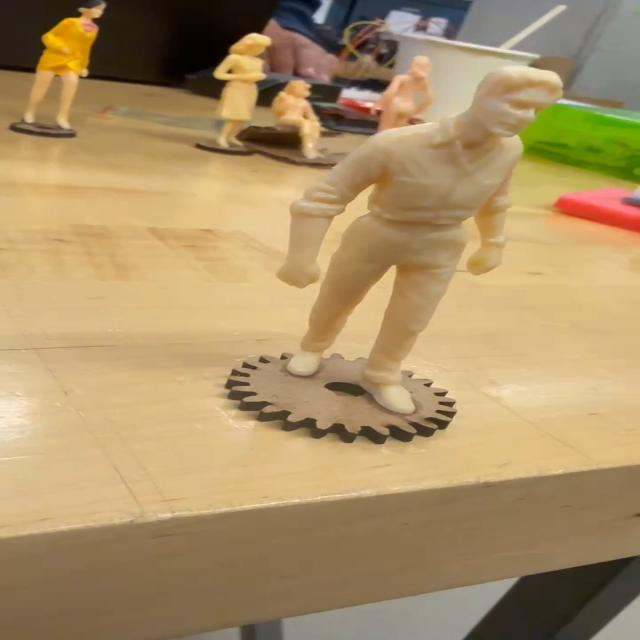Unauthorized: (262, 59, 572, 421)
